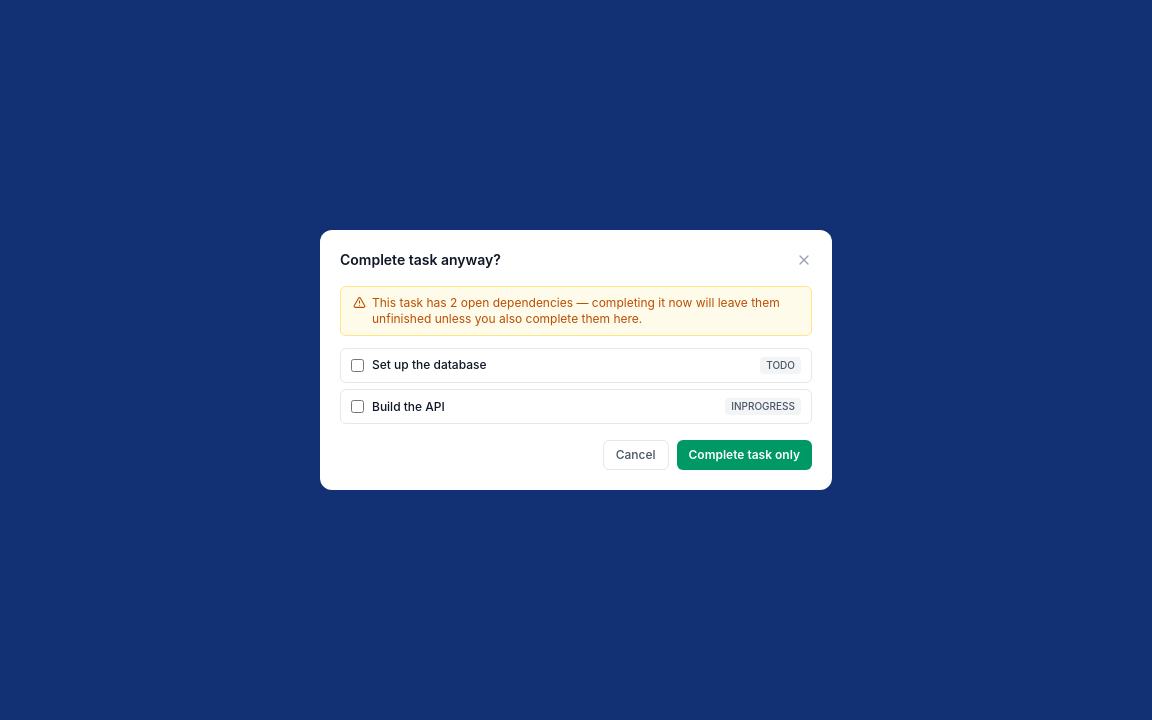
Test: ForceCompleteModal › shows an error and stays open when the submit fails
Click the button "Complete task only".
click(744, 455)  # box [676, 440, 812, 470]
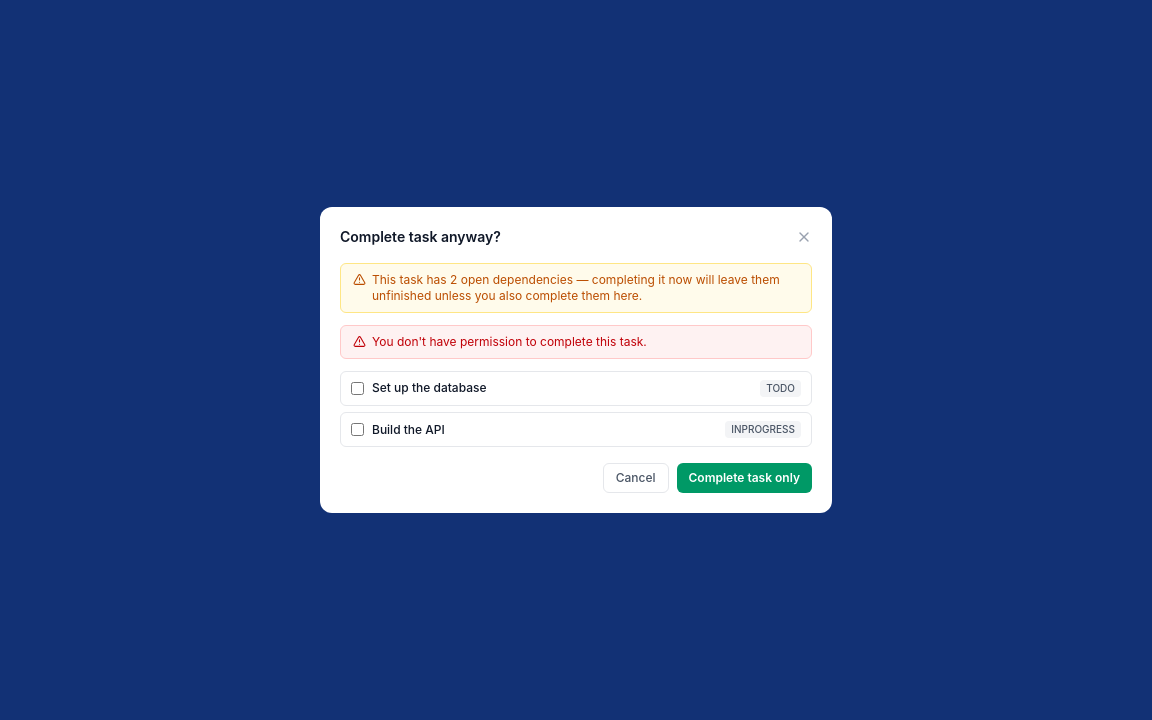
Result: the message shows "don't have permission" at [372, 334, 647, 349]
